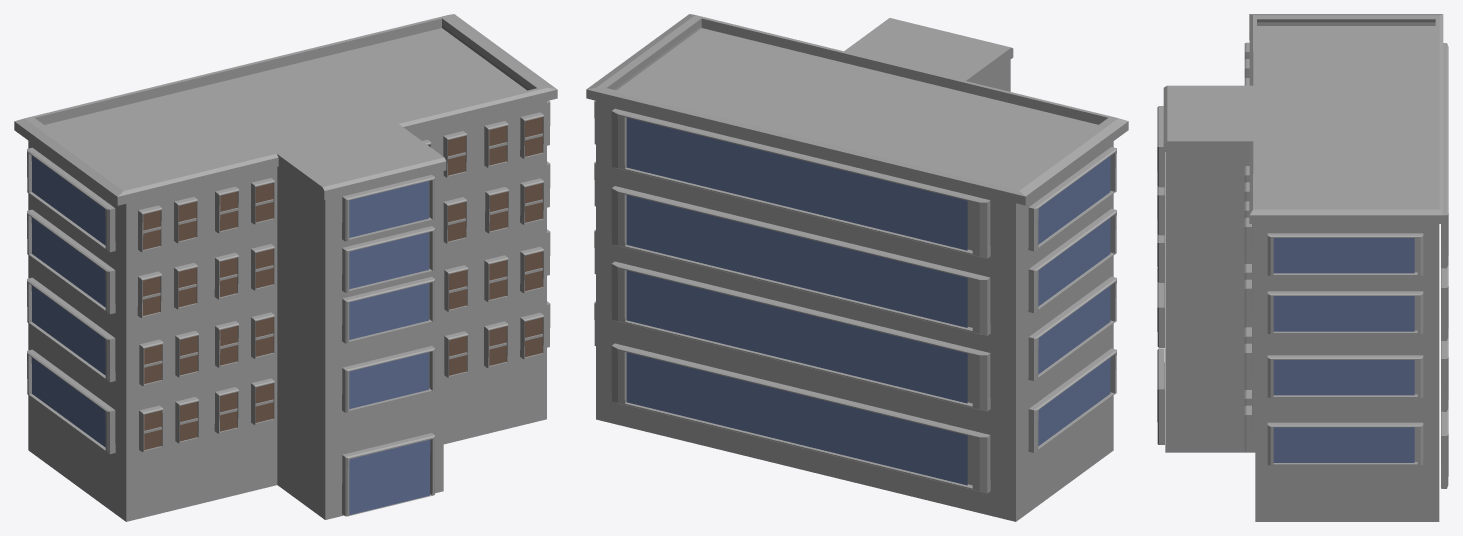
The model's file is Apartments4.fbx.
3 renders of one model, left to right at view 1: azimuth 30°, elevation 25°; view 2: azimuth 150°, elevation 25°; view 3: azimuth 270°, elevation 25°, orthographic. The views are drawn at different scales.
Parts seen in each view (by area): view 1: pCube40, polySurface49, polySurface18, polySurface367, polySurface368, polySurface369, polySurface366, polySurface302, polySurface16, polySurface304, polySurface307, polySurface17 (+11 smaller); view 2: pCube40, polySurface49, polySurface351, polySurface352, polySurface348, polySurface350, polySurface368, polySurface369, polySurface367, polySurface366; view 3: pCube40, polySurface49, polySurface365, polySurface363, polySurface361, polySurface364, polySurface348, polySurface17, polySurface352, polySurface15, polySurface350, polySurface351 (+7 smaller).
Boxes of the visible parts, x1,y1,x2,y2 form: pCube40: (28,101,546,521); polySurface49: (14,14,557,205); polySurface18: (349,439,430,515); polySurface367: (27,209,115,314); polySurface368: (27,277,115,382); polySurface369: (27,349,115,454); polySurface366: (27,147,115,252); polySurface302: (349,232,428,289); polySurface16: (349,181,428,237); polySurface304: (349,283,428,339); polySurface307: (349,352,428,408); polySurface17: (342,433,434,516); pCube40: (596,60,1113,521); polySurface49: (586,14,1128,205); polySurface351: (611,261,990,411); polySurface352: (611,343,990,493); polySurface348: (611,108,990,258); polySurface350: (611,186,990,335); polySurface368: (1028,276,1116,380); polySurface369: (1028,348,1116,452); polySurface367: (1028,208,1116,313); polySurface366: (1028,147,1116,251); pCube40: (1165,22,1439,521); polySurface49: (1163,14,1443,223); polySurface365: (1267,422,1423,465); polySurface363: (1267,291,1423,333); polySurface361: (1267,233,1423,275); polySurface364: (1267,355,1423,397); polySurface348: (1441,43,1448,268); polySurface17: (1157,348,1164,444); polySurface352: (1441,400,1448,488); polySurface15: (1157,106,1164,187); polySurface350: (1441,256,1448,340); polySurface351: (1441,329,1448,411).
Bounding box in the file's own units: 77.67 × 55.62 × 47.05.
